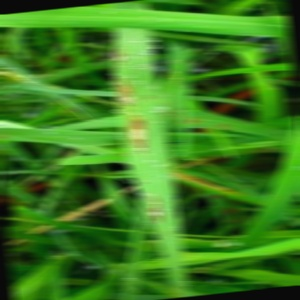Brown_Spot: (117, 76, 147, 112), (128, 109, 151, 149), (146, 194, 171, 230), (110, 41, 136, 73)
